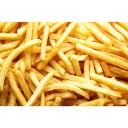frenchfries: (1, 21, 128, 105)
